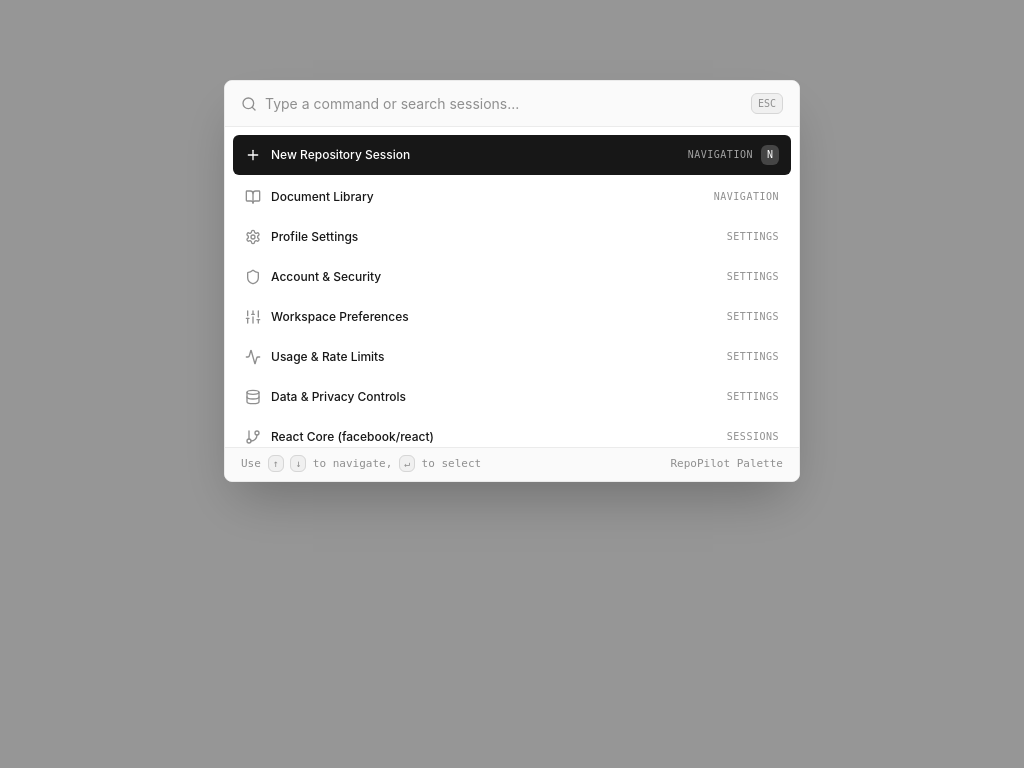
Test: Module 15: Polish and Release › CommandPalette Component › filters commands based on search query
Step 1. Type "Library" into the field with placeholder "Type a command or search sessions..." → (508, 104), box [265,94,751,114]
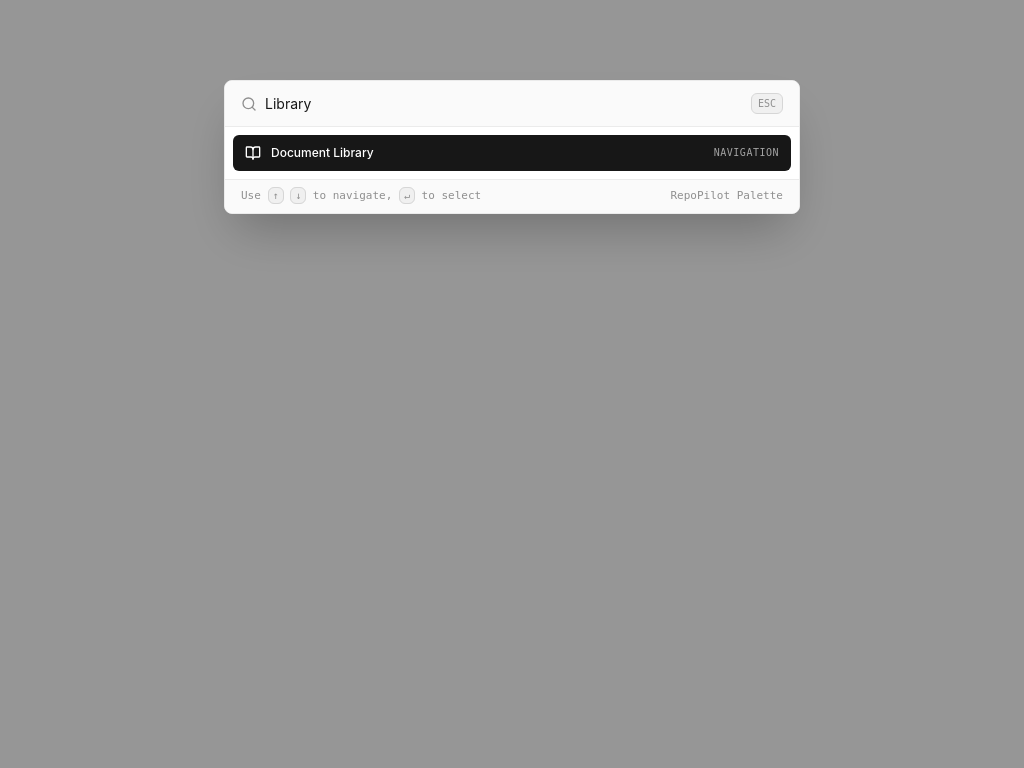
Expected: the text "Document Library" is shown, [271,145,374,161]
Now the button "New Repository Session" is gone
